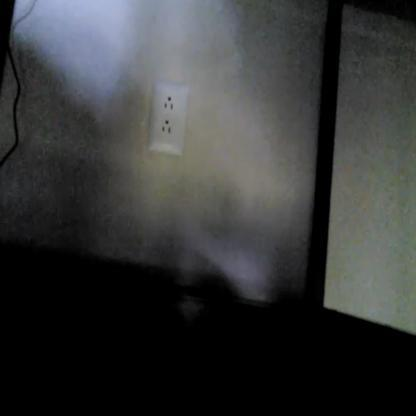OUTLET: (147, 80, 188, 156)
